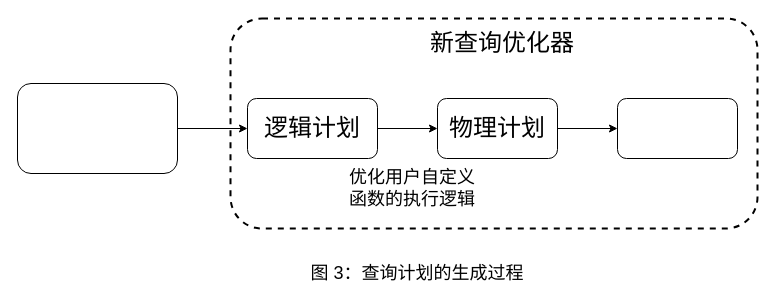
The diagram is 776 pixels wide and 305 high, and some of its shapes have lost their labels. The centre of each missing label's shape, as x and y in pixels:
嵌入用户自定义函数的查询语句: point 97,128
计划分片: point 677,128
